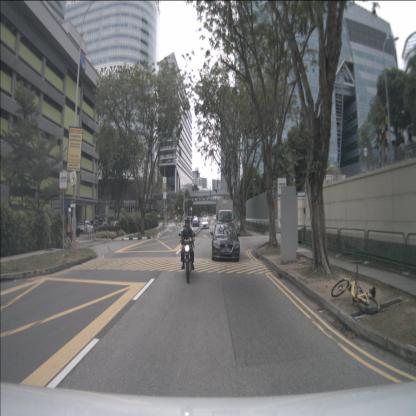human-pedestrian-adult: (82, 218, 86, 235)
vehicle-bicycle: (331, 264, 379, 315)
vehicle-car: (212, 223, 240, 262), (77, 220, 94, 235), (95, 222, 110, 233), (90, 220, 102, 231), (108, 221, 121, 230), (201, 218, 209, 229), (190, 216, 200, 224), (192, 218, 200, 228), (206, 216, 210, 223)
vehicle-motorcycle: (178, 216, 196, 284)
vehicle-truck: (216, 198, 233, 236)
